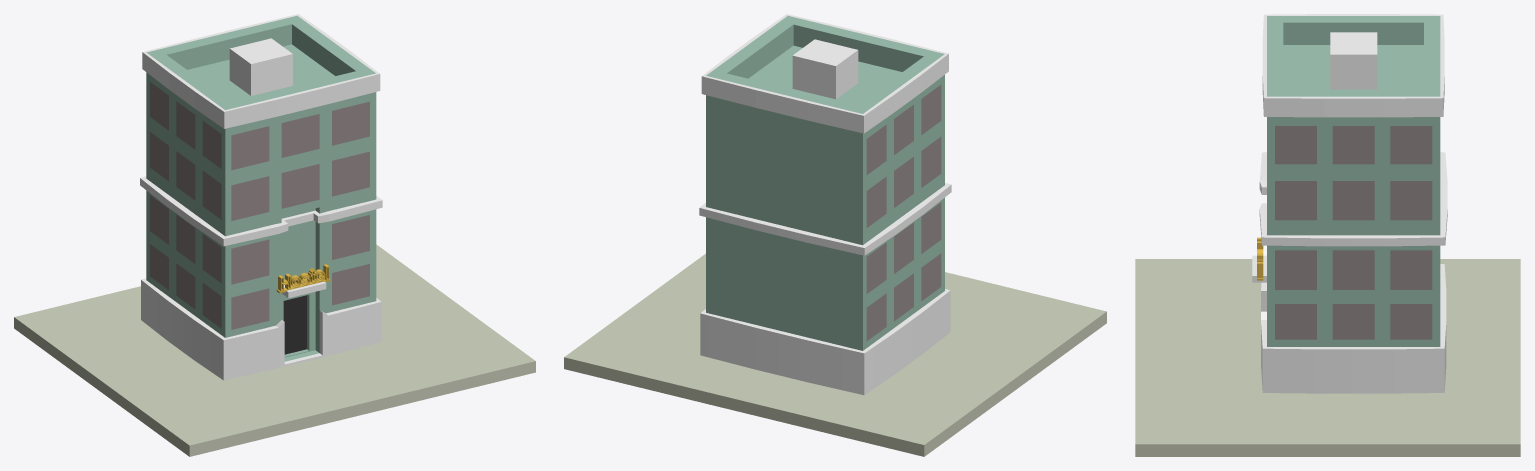
Rendered from Hostel_1275.gltf.
The picture shows the model from 3 angles, left to right: view 1: azimuth 30°, elevation 25°; view 2: azimuth 150°, elevation 25°; view 3: azimuth 270°, elevation 25°; orthographic projection. The views are drawn at different scales.
Parts seen in each view (by area): view 1: node-0; view 2: node-0; view 3: node-0.
Boxes of the visible parts, x1,y1,x2,y2 form: node-0: (14, 14, 535, 456); node-0: (564, 14, 1106, 456); node-0: (1135, 14, 1520, 456).
Size of the model in its own units: 155 by 125 by 136.
